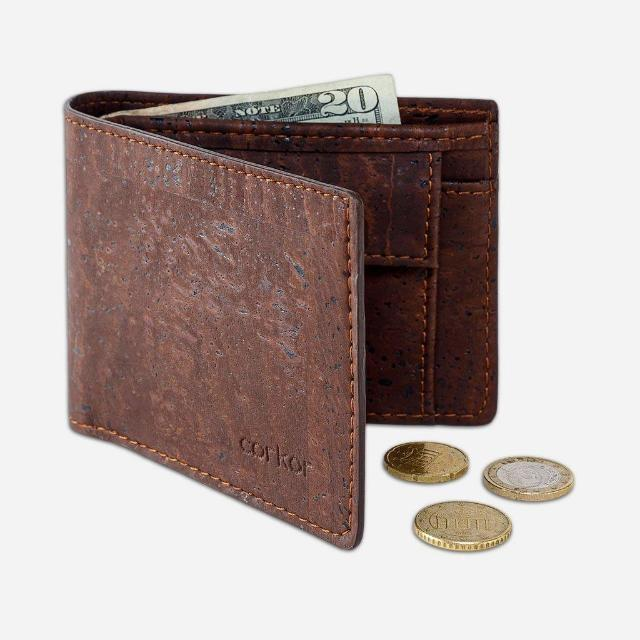Wallet: (66, 92, 498, 548)
